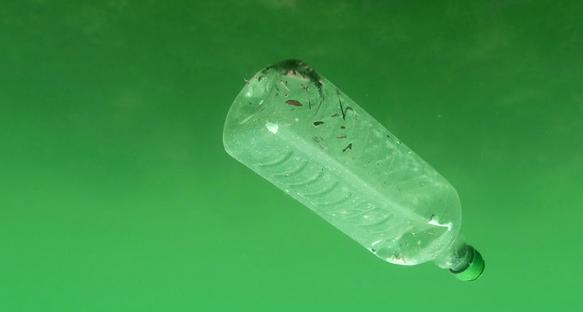Plastic: (221, 48, 489, 288)
